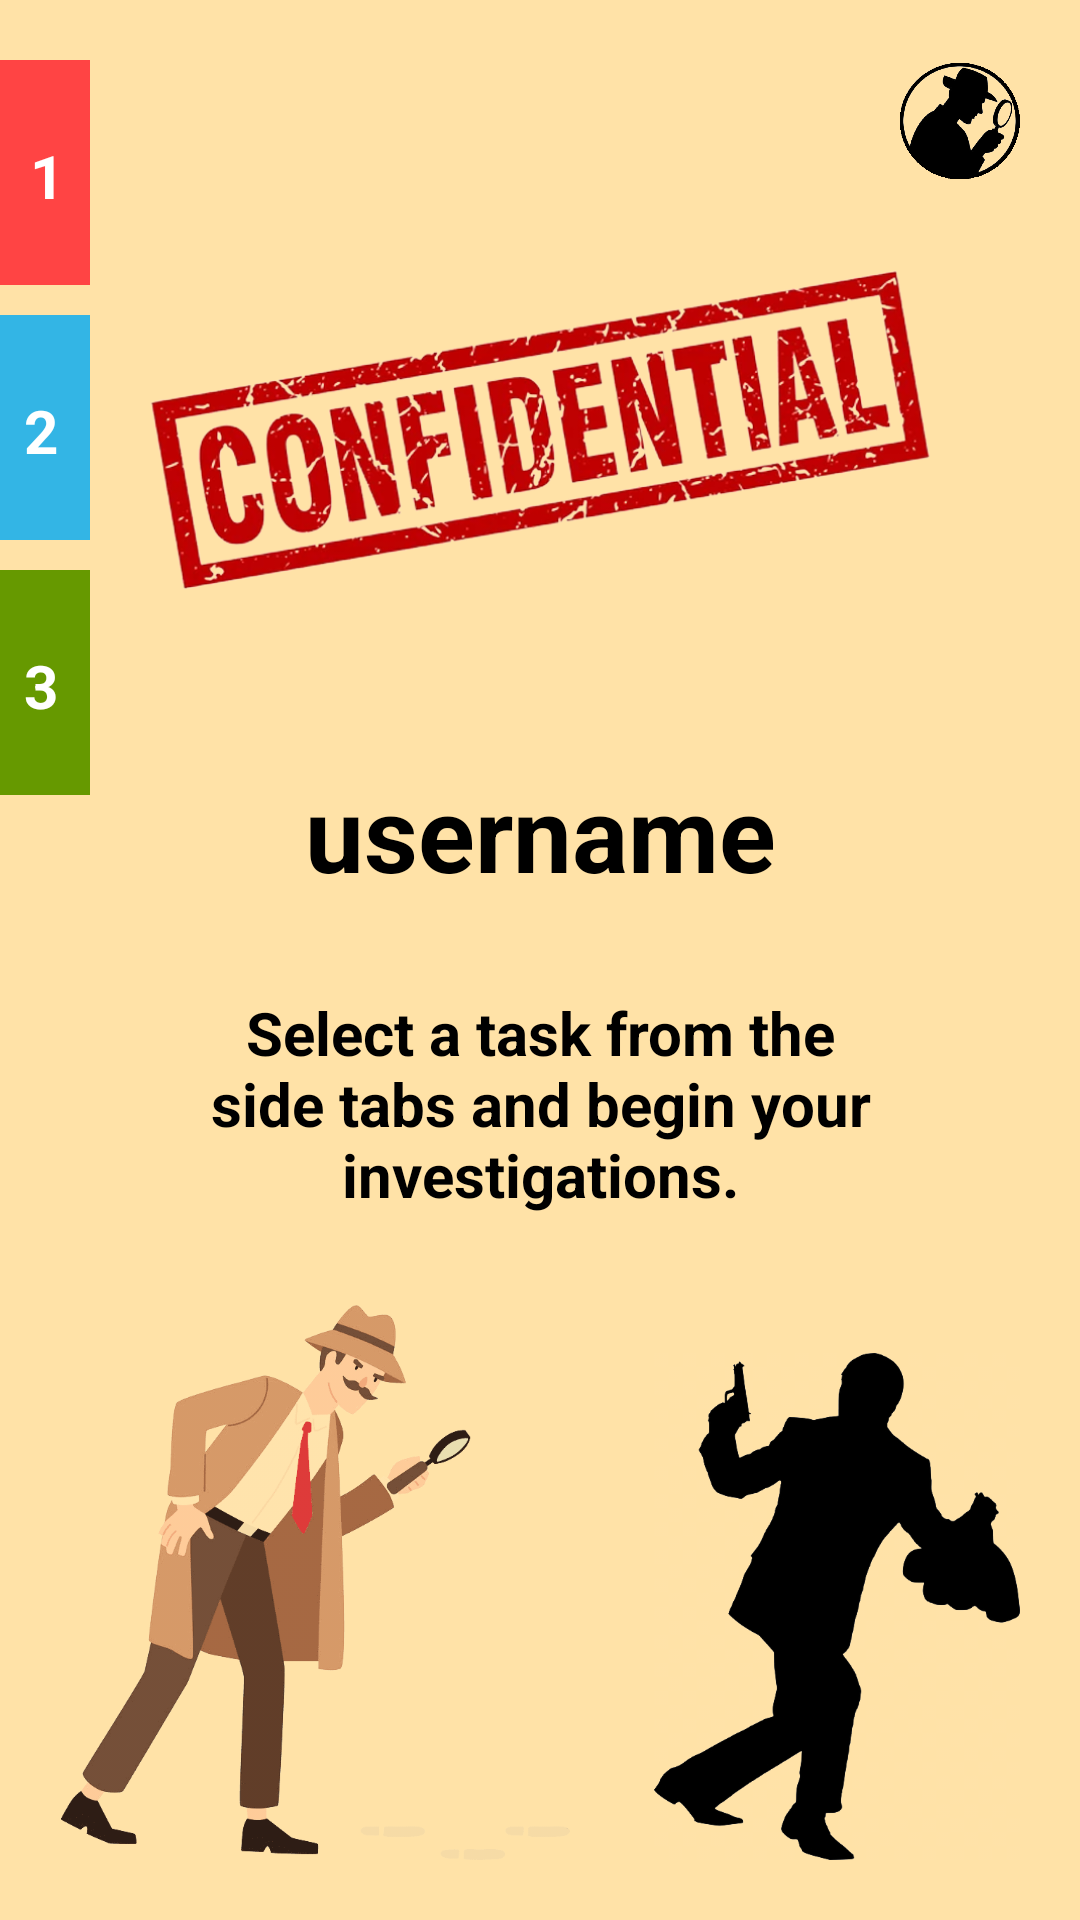

Icon bounding boxes for this 1080x1920 phone screenshot, format bbox(x1, y1, x2, y2):
detective profile: bbox(900, 63, 1020, 179)
